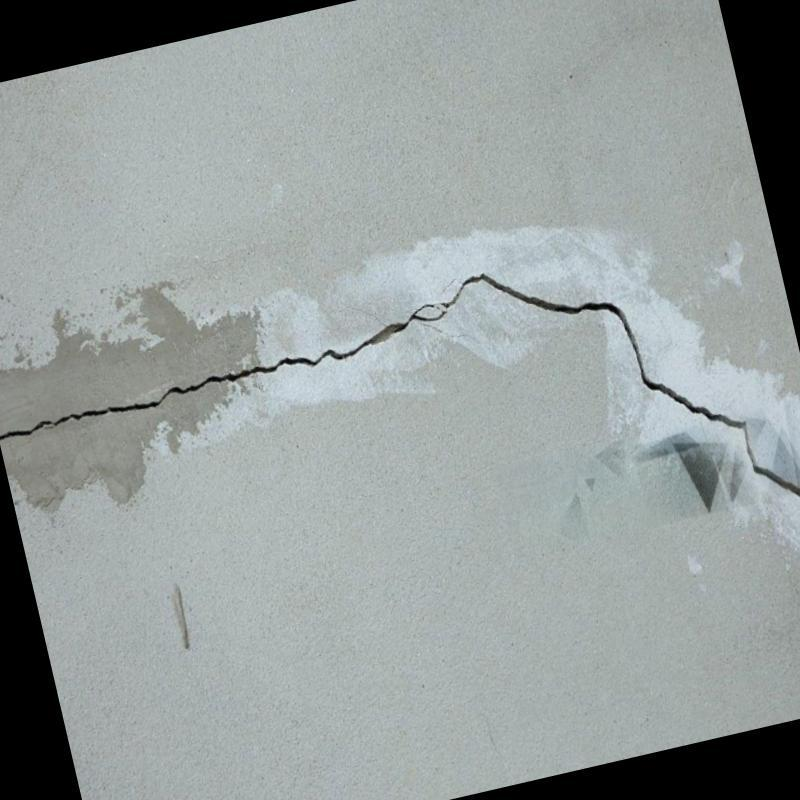pothole: (0, 265, 800, 509)
